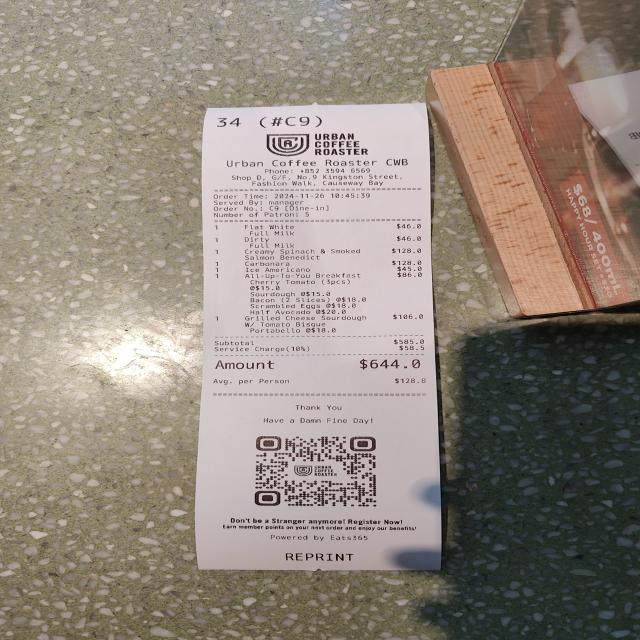bill_region: (208, 221, 430, 373)
